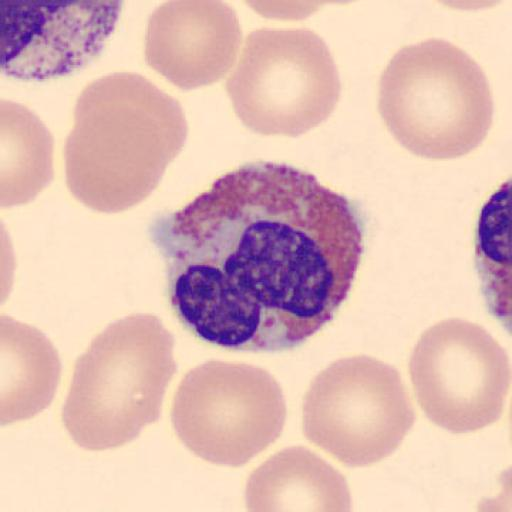RBC: (64, 69, 189, 216), (64, 310, 178, 452), (376, 36, 496, 163), (300, 352, 417, 469), (225, 25, 344, 140), (170, 358, 289, 469), (406, 315, 510, 437), (62, 99, 170, 216), (142, 0, 243, 92), (243, 443, 354, 512), (1, 313, 64, 427), (2, 96, 56, 210), (238, 0, 359, 23), (475, 461, 512, 512), (1, 219, 19, 310), (424, 0, 512, 11)
WBC: (158, 159, 368, 353), (0, 0, 129, 84), (466, 166, 512, 360)
